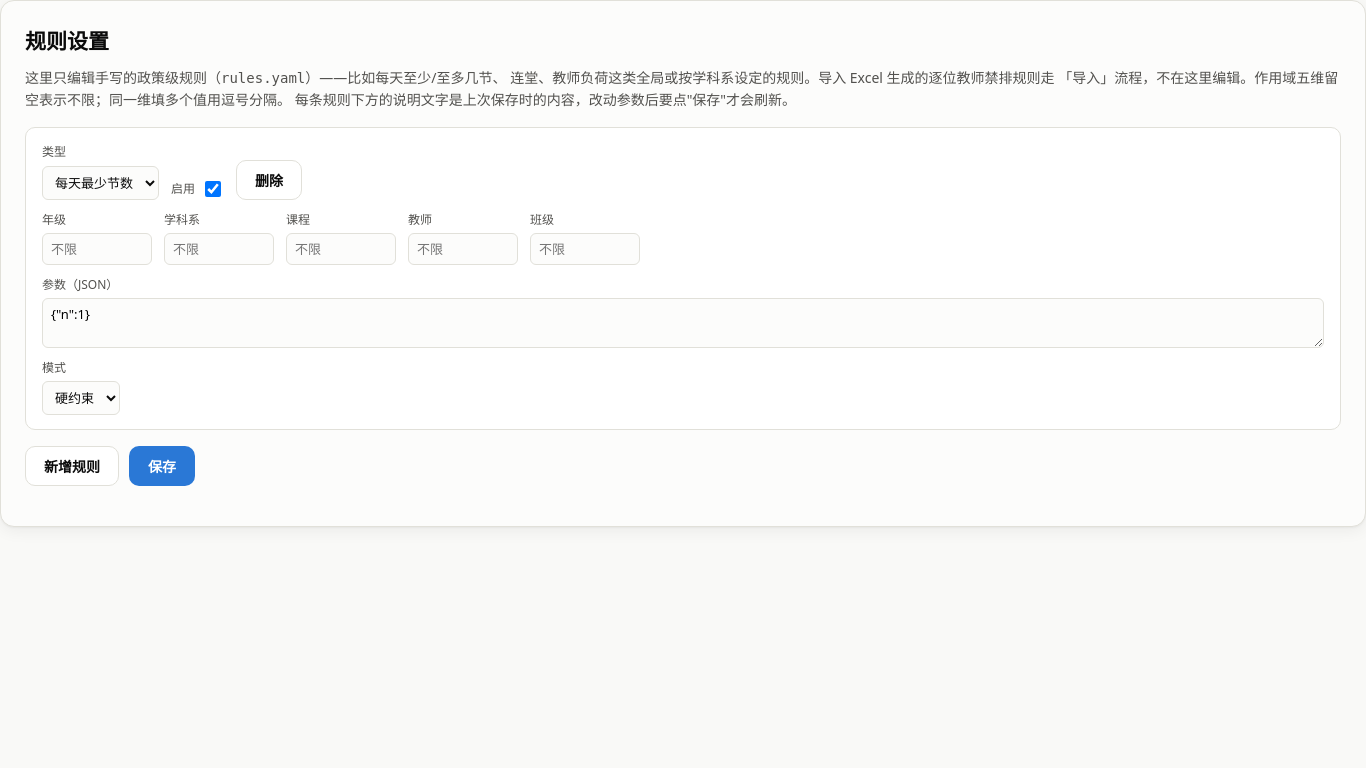
it: RulesSettings › removes a rule row
Click the button with test id "remove-rule" at (269, 180), box [236,160,302,200]
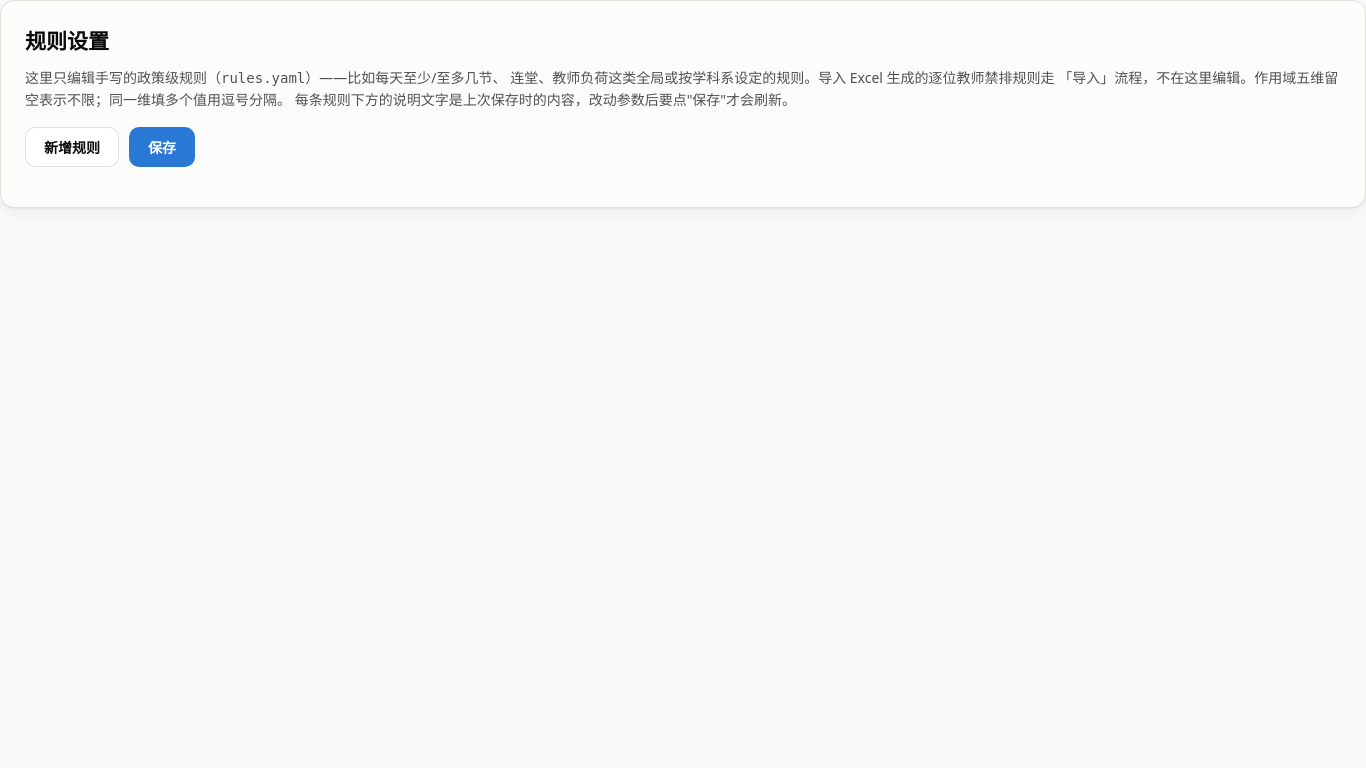
Now no elements with test id "rule-row" are shown
